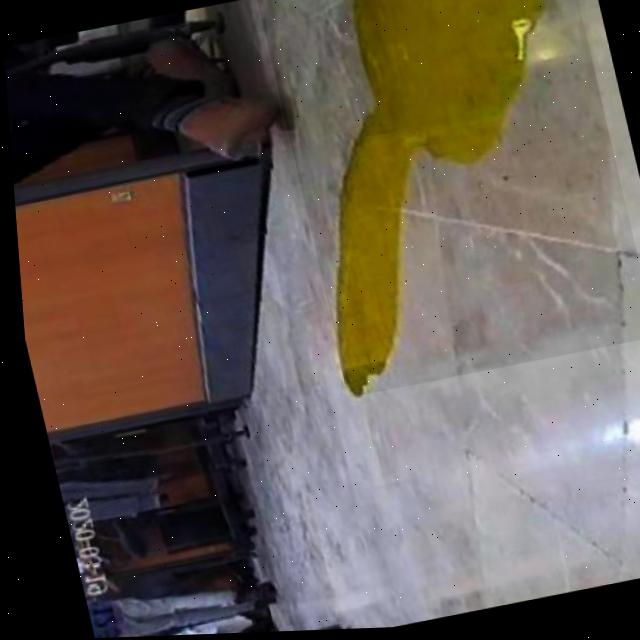spillage: (330, 0, 545, 399)
